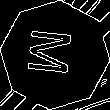M_E: (27, 29, 83, 81)
